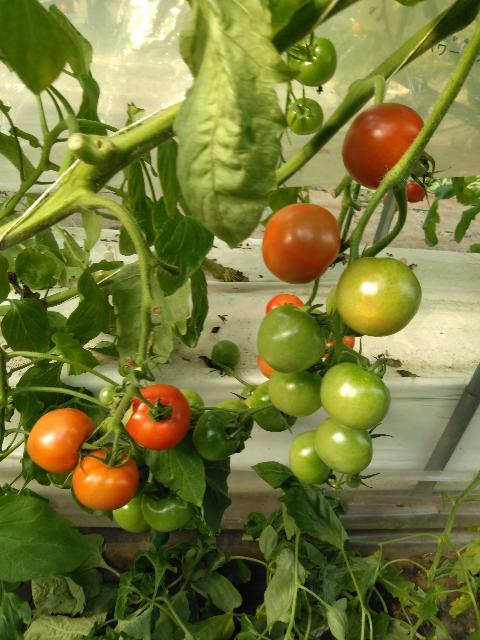l_fully_ripened: (342, 102, 424, 191), (121, 384, 192, 451), (266, 293, 304, 315), (406, 181, 427, 203)
l_green: (335, 257, 422, 338), (256, 306, 327, 374), (320, 363, 392, 430), (314, 417, 373, 475), (141, 479, 194, 533), (269, 365, 322, 417), (193, 409, 242, 462), (287, 36, 337, 87), (250, 379, 298, 432), (289, 429, 332, 485), (112, 481, 152, 534), (326, 285, 366, 337), (115, 445, 149, 499), (212, 400, 255, 442), (285, 98, 323, 136), (297, 304, 332, 344), (179, 388, 206, 432), (211, 340, 240, 369), (99, 385, 120, 404), (345, 473, 361, 489)
l_half_ripened: (261, 202, 341, 285), (27, 408, 95, 473), (72, 446, 139, 511)
